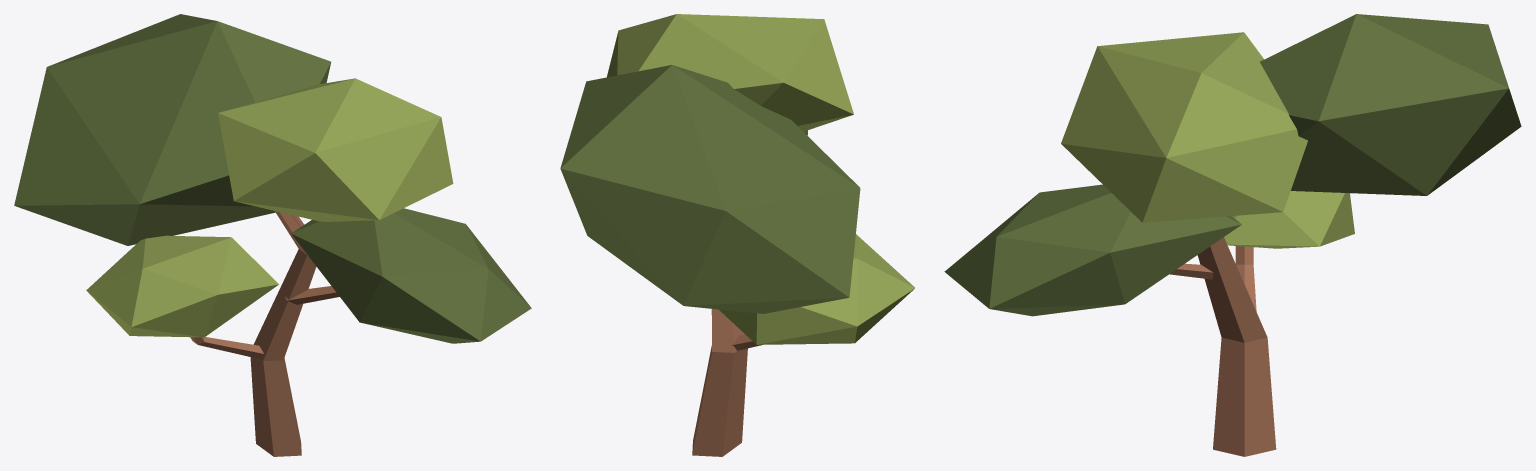
File: Tree.glb
The picture shows the model from 3 angles, left to right: view 1: azimuth 30°, elevation 25°; view 2: azimuth 150°, elevation 25°; view 3: azimuth 270°, elevation 25°; orthographic projection. The views are drawn at different scales.
Visible parts, largest first — view 1: tree01; view 2: tree01; view 3: tree01.
Part boxes in pixels (bbox=[...]): tree01: bbox=[14, 14, 531, 456]; tree01: bbox=[560, 14, 914, 456]; tree01: bbox=[944, 14, 1521, 456].
Size of the model in its own units: 17.56 by 19.92 by 24.47.
Materials: 1 (1 with a texture image).
